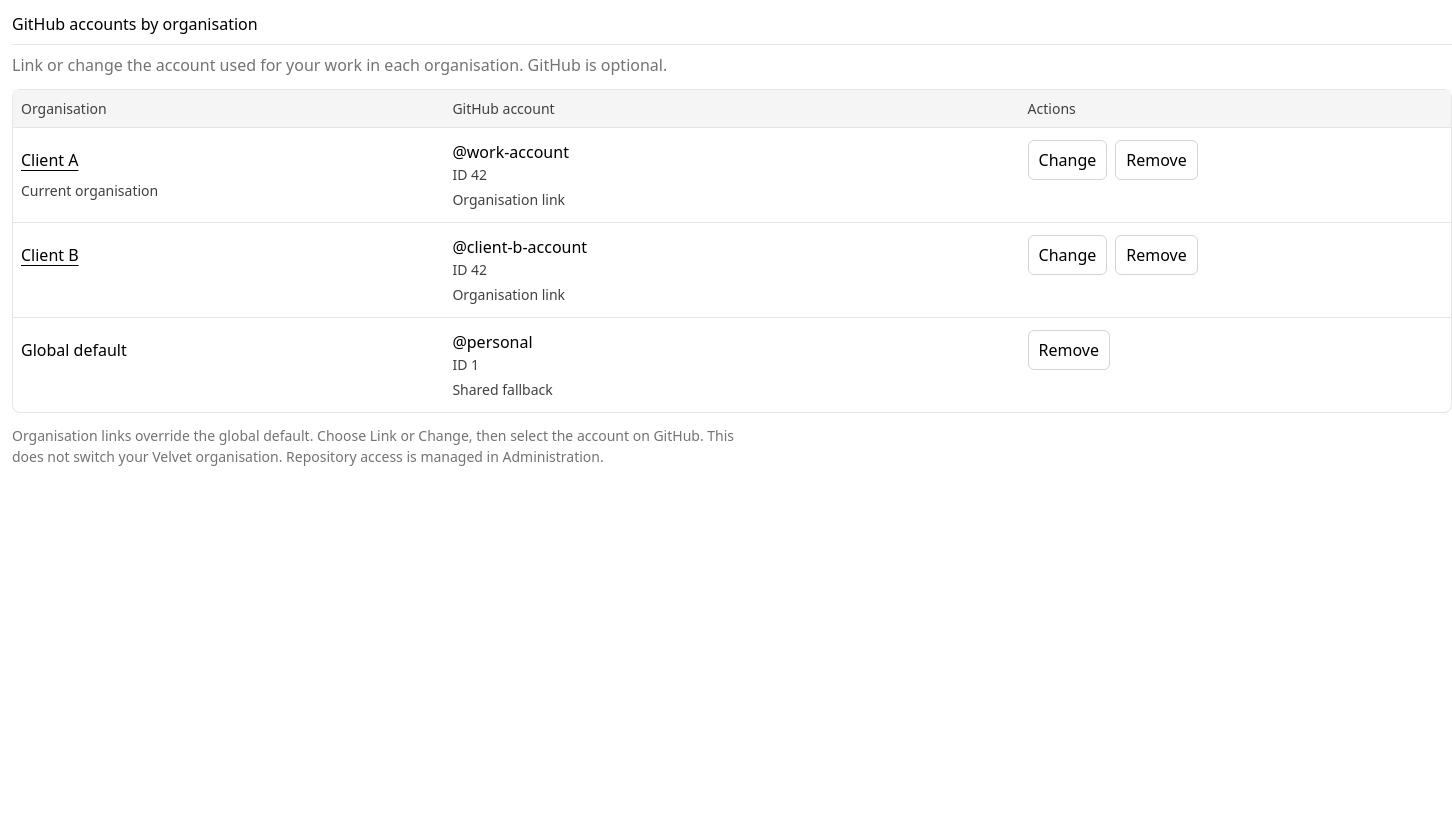
Scenario: GitHub accounts by organisation › removes only the selected non-current organisation and keeps other rows unchanged
Expected: the text "@client-b-account" is shown, top-left (452, 236), bottom-right (587, 258)
Click the button with aria-label "Remove organisation link for Client B" at (1157, 255), box top-left (1115, 235), bottom-right (1198, 275)
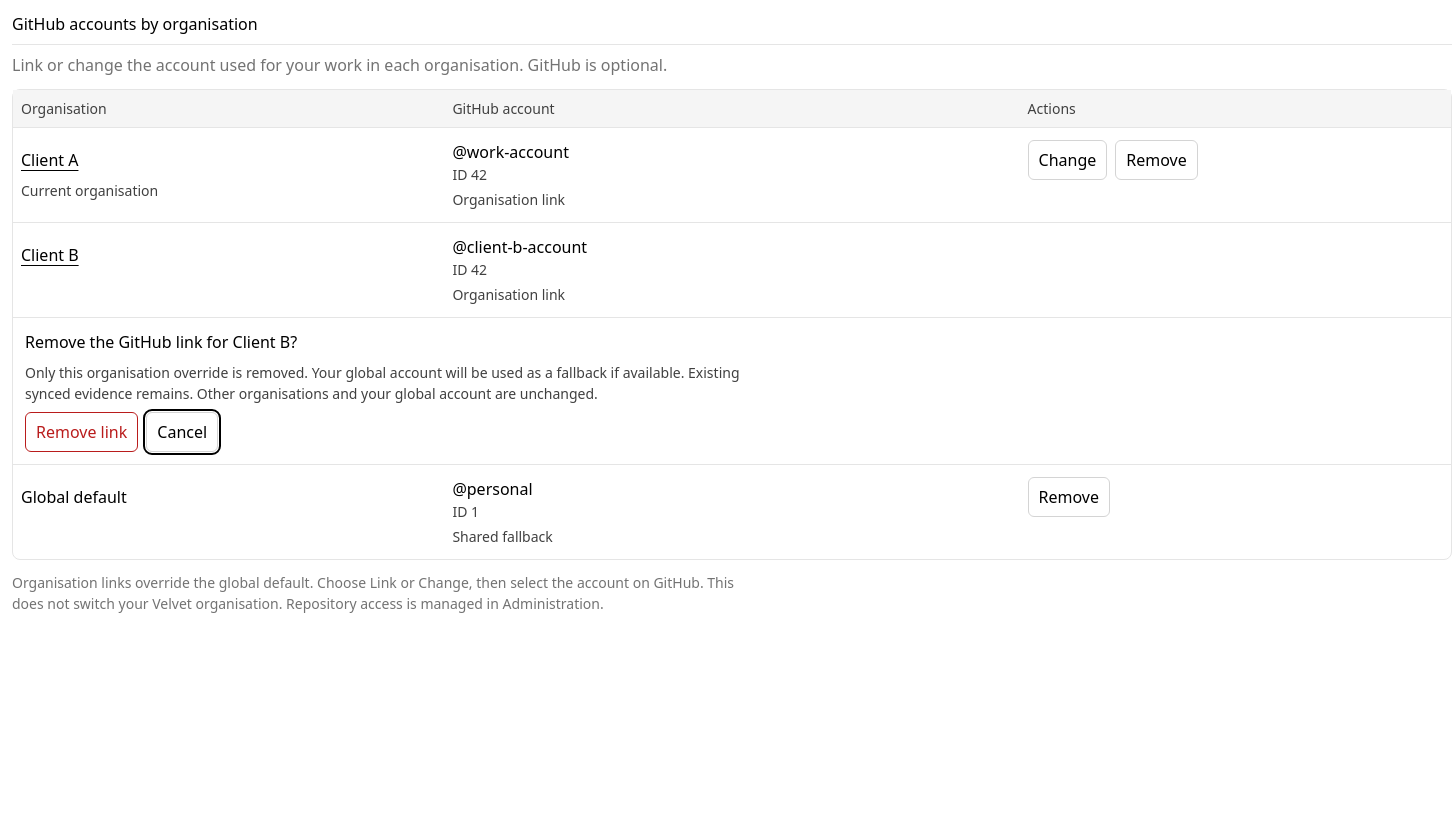
Click the button with aria-label "Confirm remove organisation link for Client B" at (82, 432), box top-left (25, 412), bottom-right (138, 452)
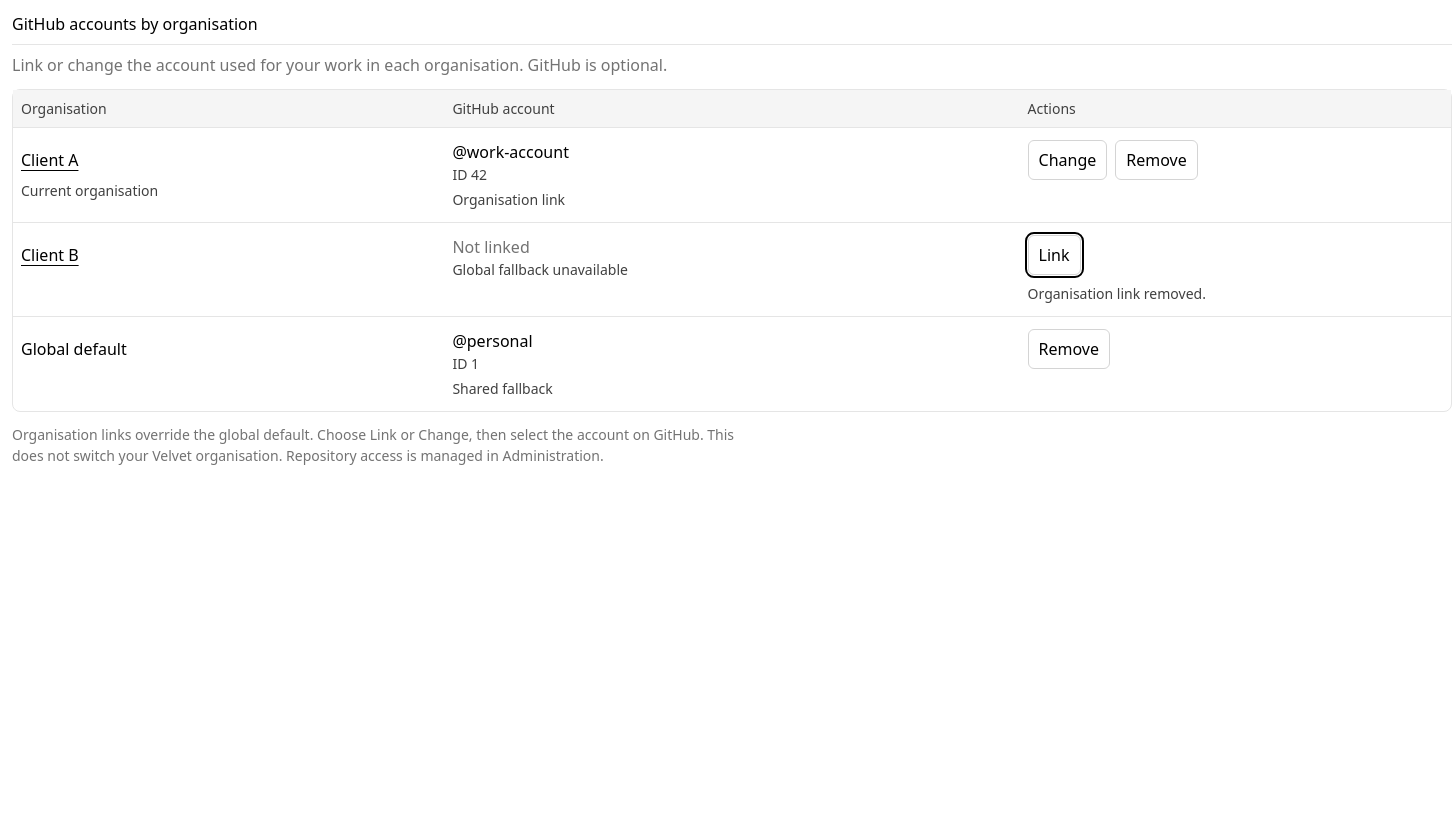
Expected: the text "@work-account" is shown, top-left (452, 141), bottom-right (569, 163)
Expected: the text "Not linked" is shown, top-left (452, 236), bottom-right (530, 258)
